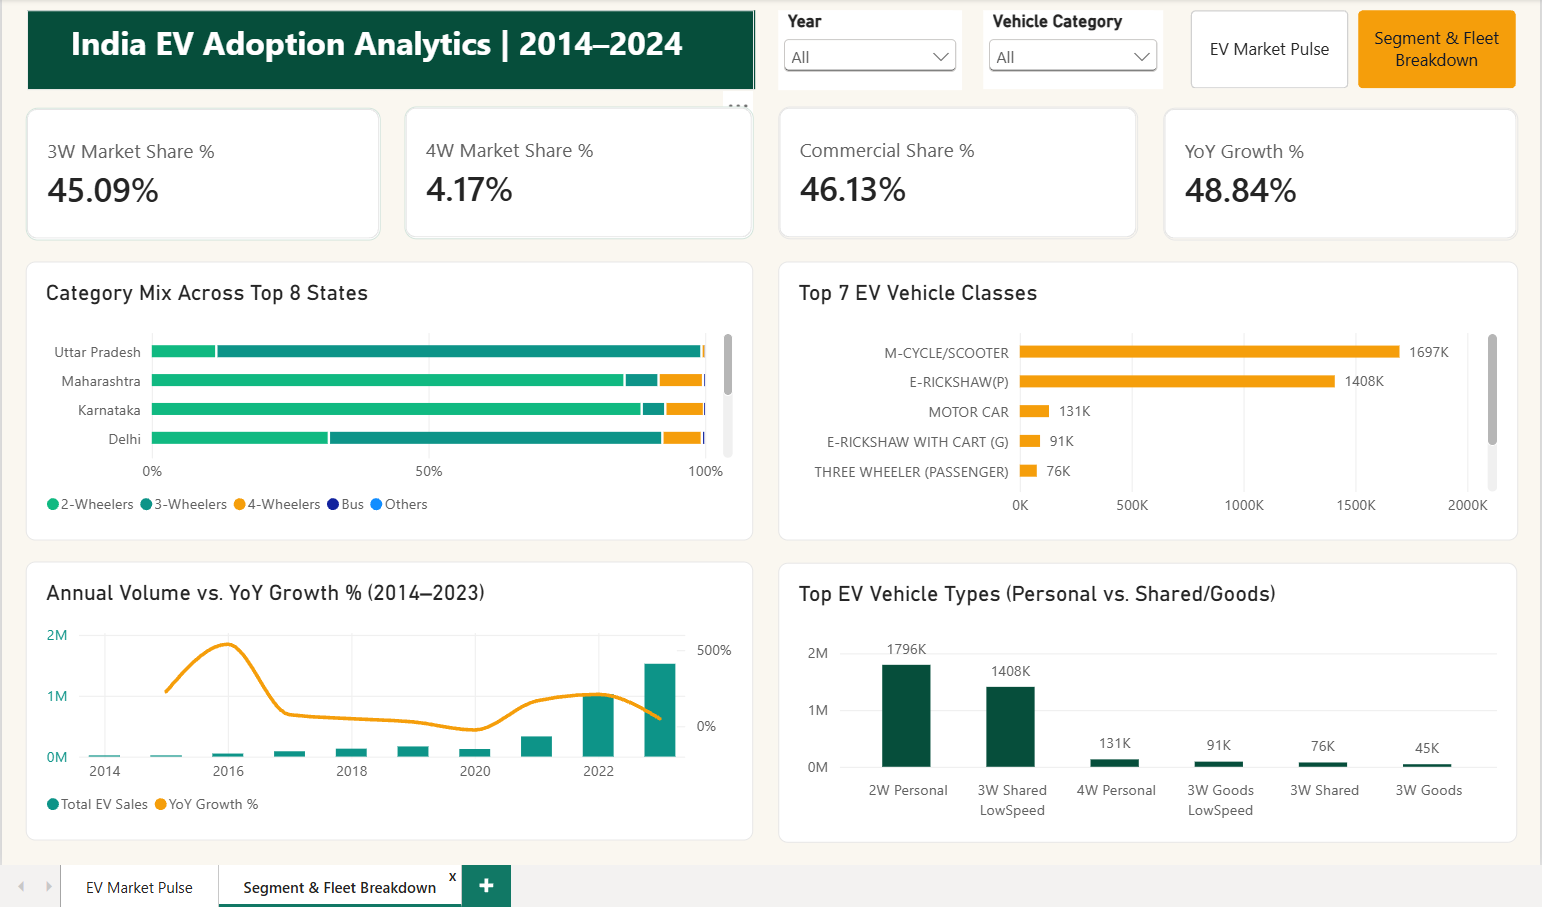

What the dashboard file says about the page in this screenshot:
{"tool":"powerbi","page":{"name":"Segment & Fleet Breakdown","canvas":[1280,720],"ordinal":1},"visuals":[{"type":"shape","box":[20.3,9.6,605.4,65.8],"z":0},{"type":"textbox","box":[57.4,17.9,555.2,50.3],"z":1000},{"type":"slicer","fields":{"Values":["Calendar.Date.Variation.Date Hierarchy.Year"]},"box":[645.5,9.6,152.8,66.3],"z":2000},{"type":"slicer","fields":{"Values":["EV_Dataset.Vehicle_Category"]},"box":[816,9.6,149.6,65.8],"z":3000},{"type":"cardVisual","fields":{"Data":["_Measures.3W Market Share %"]},"box":[20,90,295,110],"z":4000},{"type":"cardVisual","fields":{"Data":["_Measures.YoY Growth %"]},"box":[965,90,295,110],"z":5000},{"type":"cardVisual","fields":{"Data":["_Measures.4W Market Share %"]},"box":[334.5,89.8,290.7,110.1],"z":6000},{"type":"cardVisual","fields":{"Data":["_Measures.Commercial Share %"]},"box":[645.5,89.8,299.2,110.1],"z":7000},{"type":"hundredPercentStackedBarChart","title":"Category Mix Across Top 8 States","fields":{"Category":["EV_Dataset.State"],"Series":["EV_Dataset.Vehicle_Category"],"Y":["_Measures.Total EV Sales"]},"box":[20,218,605,232],"z":8000},{"type":"clusteredBarChart","title":"Top 7 EV Vehicle Classes","fields":{"Category":["EV_Dataset.Vehicle_Class"],"Y":["_Measures.Total EV Sales"]},"box":[645,218,615,232],"z":9000},{"type":"lineClusteredColumnComboChart","title":"Annual Volume vs. YoY Growth % (2014–2023)","fields":{"Category":["Calendar.Year"],"Y":["_Measures.Total EV Sales"],"Y2":["_Measures.YoY Growth %"]},"box":[20,468,605,232],"z":10000},{"type":"clusteredColumnChart","title":"Top EV Vehicle Types (Personal vs. Shared/Goods)","fields":{"Category":["EV_Dataset.Vehicle Type Clean"],"Y":["_Measures.Total EV Sales"]},"box":[645,468.5,614.6,232.4],"z":11000},{"type":"pageNavigator","box":[988.2,9.7,271.4,65.7],"z":12000}]}

Visuals, with their boxes on the page's 1280x720 design canvas (x1, y1, x2, y2). These are canvas units, not pixel positions in the 1542x907 screenshot, which may show the page scaled, cropped or inside an application window:
shape: bbox=[20, 10, 626, 75]
textbox: bbox=[57, 18, 613, 68]
slicer - Calendar.Date.Variation.Date Hierarchy.Year: bbox=[646, 10, 798, 76]
slicer - EV_Dataset.Vehicle_Category: bbox=[816, 10, 966, 75]
cardVisual - _Measures.3W Market Share %: bbox=[20, 90, 315, 200]
cardVisual - _Measures.YoY Growth %: bbox=[965, 90, 1260, 200]
cardVisual - _Measures.4W Market Share %: bbox=[334, 90, 625, 200]
cardVisual - _Measures.Commercial Share %: bbox=[646, 90, 945, 200]
"Category Mix Across Top 8 States" hundredPercentStackedBarChart: bbox=[20, 218, 625, 450]
"Top 7 EV Vehicle Classes" clusteredBarChart: bbox=[645, 218, 1260, 450]
"Annual Volume vs. YoY Growth % (2014–2023)" lineClusteredColumnComboChart: bbox=[20, 468, 625, 700]
"Top EV Vehicle Types (Personal vs. Shared/Goods)" clusteredColumnChart: bbox=[645, 468, 1260, 701]
pageNavigator: bbox=[988, 10, 1260, 75]
